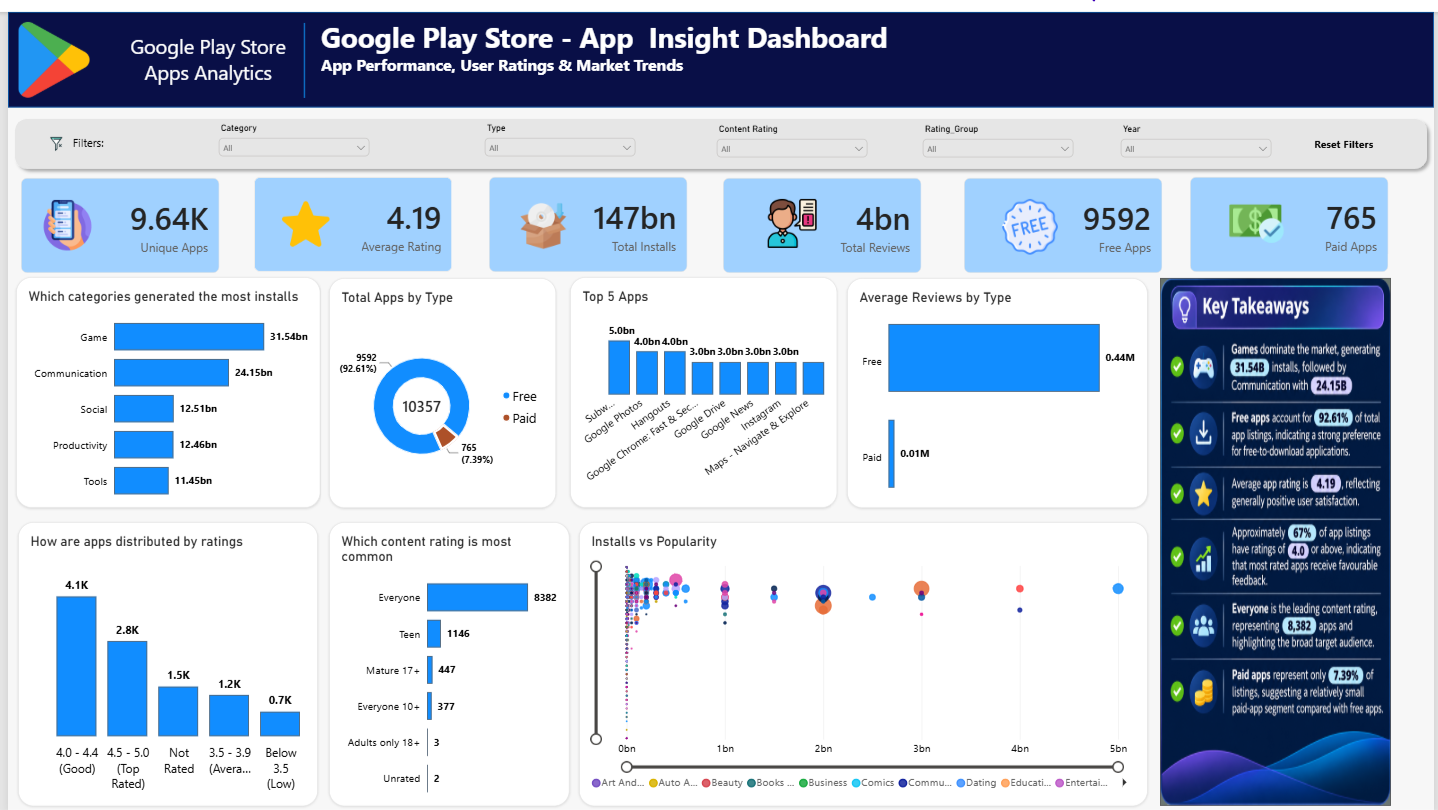

The dashboard page shown, as its layout file describes it:
{"tool":"powerbi","page":{"name":"Page 1","canvas":[1920,1080],"ordinal":0},"visuals":[{"type":"shape","box":[0,0,1920,128.6],"z":0},{"type":"cardVisual","fields":{"Data":["googleplaystore_cleaned.paid apps"]},"box":[1591.7,221.9,267.5,128.8],"z":0,"group":"g10"},{"type":"group","id":"g1","title":"Group 2","box":[331.3,222.1,267.5,128.8],"z":0,"group":"g5"},{"type":"cardVisual","fields":{"Data":["Avg(googleplaystore_cleaned.Rating)"]},"box":[331.3,222.1,267.5,128.8],"z":0,"group":"g1"},{"type":"cardVisual","fields":{"Data":["Sum(googleplaystore_cleaned.Installs)"]},"box":[647.1,222.8,267.5,128.8],"z":0,"group":"g2"},{"type":"group","id":"g2","title":"Group 2","box":[647.1,222.8,267.5,128.8],"z":0,"group":"g6"},{"type":"cardVisual","fields":{"Data":["googleplaystore_cleaned.Unique Apps"]},"box":[18,223.2,267.5,128.8],"z":0,"group":"g4"},{"type":"cardVisual","fields":{"Data":["googleplaystore_cleaned.Free Apps"]},"box":[1286.7,223.2,267.5,128.8],"z":0,"group":"g8"},{"type":"cardVisual","fields":{"Data":["Sum(googleplaystore_cleaned.Reviews)"]},"box":[963.2,223.7,267.5,128.8],"z":0,"group":"g7"},{"type":"textbox","box":[125.7,8.6,288.6,114.3],"z":1000,"group":"g3"},{"type":"shape","box":[377.1,14.3,44.3,101.4],"z":1000},{"type":"image","box":[368.5,249.9,64.3,70],"z":1000,"group":"g5"},{"type":"image","box":[684.8,252.6,71.2,72.5],"z":1000,"group":"g6"},{"type":"image","box":[33.7,253.3,92.5,67.5],"z":1000,"group":"g4"},{"type":"textbox","box":[421.4,8.6,1484.3,114.3],"z":2000},{"type":"image","box":[0,14.3,124,102.1],"z":2000,"group":"g3"},{"type":"shape","box":[0,135,1920,85.7],"z":3000},{"type":"image","box":[48,164,32,27],"z":4000},{"type":"textbox","box":[80,166,57,21],"z":5000},{"type":"slicer","fields":{"Values":["googleplaystore_cleaned.Category"]},"box":[278.9,150,212.9,55.7],"z":6000},{"type":"slicer","fields":{"Values":["googleplaystore_cleaned.Type"]},"box":[636.7,150,212.9,55.7],"z":7000},{"type":"slicer","fields":{"Values":["googleplaystore_cleaned.Content Rating"]},"box":[950,151.1,212.9,55.7],"z":8000},{"type":"slicer","fields":{"Values":["googleplaystore_cleaned.Rating_Group"]},"box":[1226.7,151.1,212.9,55.7],"z":9000},{"type":"slicer","fields":{"Values":["googleplaystore_cleaned.Last Updated.Variation.Date Hierarchy.Year"]},"box":[1493.3,151.1,212.9,55.7],"z":10000},{"type":"actionButton","box":[1730,157.8,136.7,40],"z":11000},{"type":"group","id":"g3","title":"Group 1","box":[0,8.6,414.3,114.3],"z":12000},{"type":"group","id":"g4","title":"Group 2","box":[18,223.2,267.5,128.8],"z":13000},{"type":"group","id":"g5","title":"Group 3","box":[331.3,222.1,267.5,128.8],"z":14000},{"type":"image","box":[1627.3,240.3,106.2,80],"z":14004,"group":"g10"},{"type":"image","box":[1327.3,251.3,97.5,75],"z":14004,"group":"g8"},{"type":"image","box":[1010.7,252.5,92.5,66.2],"z":14004,"group":"g7"},{"type":"group","id":"g6","title":"Group 3","box":[647.1,222.8,267.5,128.8],"z":15000},{"type":"group","id":"g7","title":"Group 4","box":[963.2,223.7,267.5,128.8],"z":16000},{"type":"group","id":"g8","title":"Group 4","box":[1286.7,223.2,267.5,128.8],"z":17000},{"type":"group","id":"g9","title":"Group 4","box":[1591.7,221.9,267.5,128.8],"z":18000},{"type":"clusteredBarChart","title":"Which categories generated the most installs","fields":{"Category":["googleplaystore_cleaned.Category"],"Y":["Sum(googleplaystore_cleaned.Installs)"]},"box":[11.2,357.5,410,311.2],"z":19000},{"type":"donutChart","title":"Total Apps by Type","fields":{"Category":["googleplaystore_cleaned.Type"],"Y":["googleplaystore_cleaned.total apps"]},"box":[432.5,358.8,306.2,310],"z":20001},{"type":"group","id":"g10","title":"Group 5","box":[1591.7,221.9,267.5,128.8],"z":20003,"group":"g9"},{"type":"clusteredColumnChart","title":"How are apps distributed by ratings","fields":{"Category":["googleplaystore_cleaned.Rating_Group"],"Y":["googleplaystore_cleaned.total apps"]},"box":[13.8,686.2,403.8,382.5],"z":20003},{"type":"clusteredBarChart","title":"Which content rating is most common","fields":{"Category":["googleplaystore_cleaned.Content Rating"],"Y":["googleplaystore_cleaned.total apps"]},"box":[432.5,686.2,323.8,382.5],"z":20004},{"type":"image","box":[1551.1,357.8,311.1,711.1],"z":20005},{"type":"clusteredColumnChart","title":"Top 5 Apps","fields":{"Category":["googleplaystore_cleaned.App"],"Y":["Sum(googleplaystore_cleaned.Installs)"]},"box":[756.2,357.5,360,311.2],"z":20006},{"type":"clusteredBarChart","title":"Average Reviews by Type","fields":{"Category":["googleplaystore_cleaned.Type"],"Y":["Avg(googleplaystore_cleaned.Reviews)"]},"box":[1130,358.8,405,310],"z":20007},{"type":"scatterChart","title":"Installs vs Popularity","fields":{"Category":["googleplaystore_cleaned.App"],"Series":["googleplaystore_cleaned.Category"],"Size":["Avg(googleplaystore_cleaned.Reviews)"],"X":["Sum(googleplaystore_cleaned.Installs)"],"Y":["Avg(googleplaystore_cleaned.Rating)"]},"box":[768.8,686.2,766.2,382.5],"z":20008}]}

Visuals, with their boxes in screenshot pixels (x1, y1, x2, y2), scaled from the page's 1920x1080 canvas onto the 1438x810 screenshot:
shape: bbox(0, 0, 1437, 96)
cardVisual - googleplaystore_cleaned.paid apps: bbox(1192, 166, 1392, 263)
"Group 2" group: bbox(248, 167, 448, 263)
cardVisual - Avg(googleplaystore_cleaned.Rating): bbox(248, 167, 448, 263)
cardVisual - Sum(googleplaystore_cleaned.Installs): bbox(485, 167, 685, 264)
"Group 2" group: bbox(485, 167, 685, 264)
cardVisual - googleplaystore_cleaned.Unique Apps: bbox(13, 167, 214, 264)
cardVisual - googleplaystore_cleaned.Free Apps: bbox(964, 167, 1164, 264)
cardVisual - Sum(googleplaystore_cleaned.Reviews): bbox(721, 168, 922, 264)
textbox: bbox(94, 6, 310, 92)
shape: bbox(282, 11, 316, 87)
image: bbox(276, 187, 324, 240)
image: bbox(513, 189, 566, 244)
image: bbox(25, 190, 95, 241)
textbox: bbox(316, 6, 1427, 92)
image: bbox(0, 11, 93, 87)
shape: bbox(0, 101, 1437, 166)
image: bbox(36, 123, 60, 143)
textbox: bbox(60, 124, 103, 140)
slicer - googleplaystore_cleaned.Category: bbox(209, 112, 368, 154)
slicer - googleplaystore_cleaned.Type: bbox(477, 112, 636, 154)
slicer - googleplaystore_cleaned.Content Rating: bbox(712, 113, 871, 155)
slicer - googleplaystore_cleaned.Rating_Group: bbox(919, 113, 1078, 155)
slicer - googleplaystore_cleaned.Last Updated.Variation.Date Hierarchy.Year: bbox(1118, 113, 1278, 155)
actionButton: bbox(1296, 118, 1398, 148)
"Group 1" group: bbox(0, 6, 310, 92)
"Group 2" group: bbox(13, 167, 214, 264)
"Group 3" group: bbox(248, 167, 448, 263)
image: bbox(1219, 180, 1298, 240)
image: bbox(994, 188, 1067, 245)
image: bbox(757, 189, 826, 239)
"Group 3" group: bbox(485, 167, 685, 264)
"Group 4" group: bbox(721, 168, 922, 264)
"Group 4" group: bbox(964, 167, 1164, 264)
"Group 4" group: bbox(1192, 166, 1392, 263)
"Which categories generated the most installs" clusteredBarChart: bbox(8, 268, 315, 502)
"Total Apps by Type" donutChart: bbox(324, 269, 553, 502)
"Group 5" group: bbox(1192, 166, 1392, 263)
"How are apps distributed by ratings" clusteredColumnChart: bbox(10, 515, 313, 802)
"Which content rating is most common" clusteredBarChart: bbox(324, 515, 566, 802)
image: bbox(1162, 268, 1395, 802)
"Top 5 Apps" clusteredColumnChart: bbox(566, 268, 836, 502)
"Average Reviews by Type" clusteredBarChart: bbox(846, 269, 1150, 502)
"Installs vs Popularity" scatterChart: bbox(576, 515, 1150, 802)
